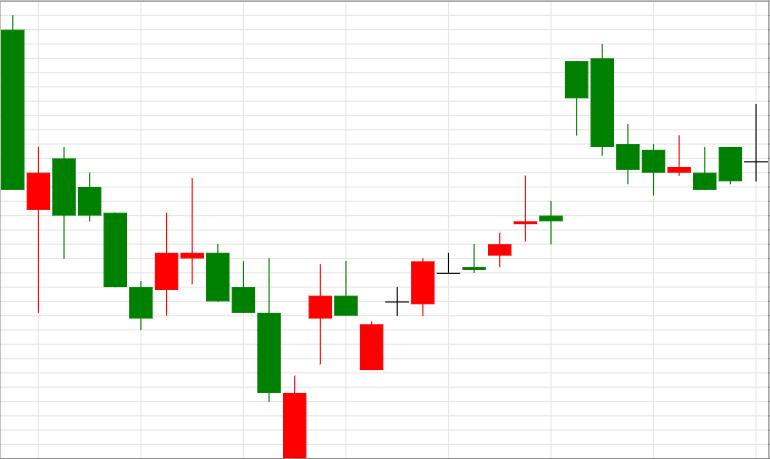hanging_man_fall: (359, 61, 588, 369)
